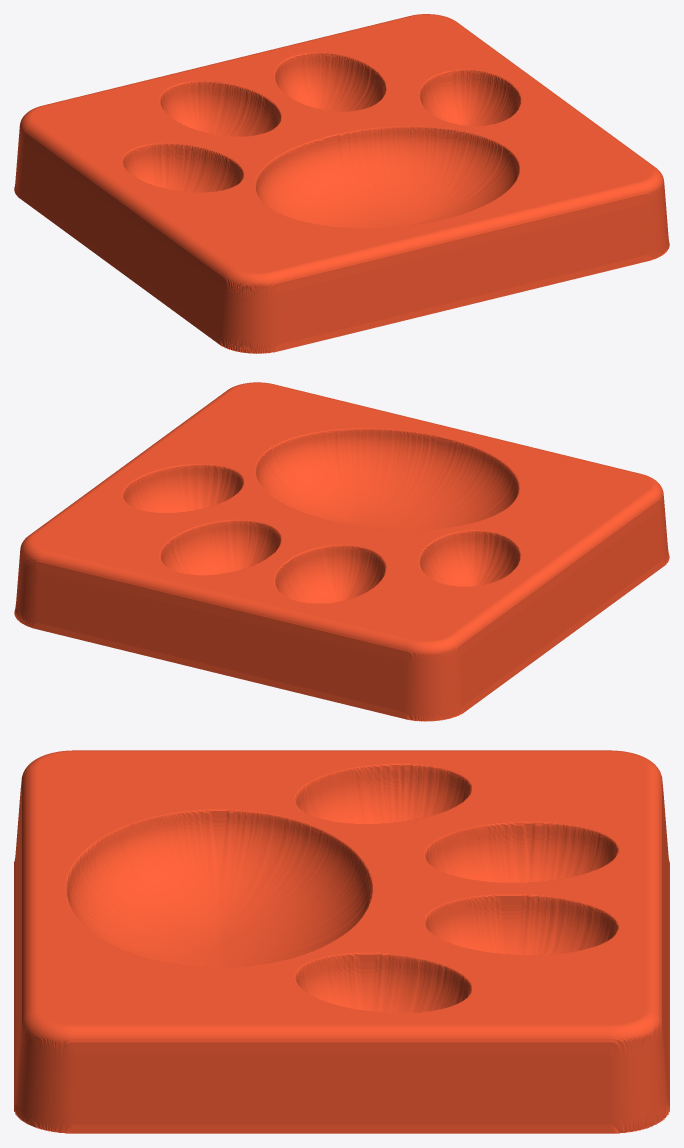
Rendered from mold.glb.
3 renders of one model, top to bottom at view 1: azimuth 30°, elevation 25°; view 2: azimuth 150°, elevation 25°; view 3: azimuth 270°, elevation 25°, orthographic. The views are drawn at different scales.
Parts seen in each view (by area): view 1: geometry_0; view 2: geometry_0; view 3: geometry_0.
Boxes of the visible parts, x1,y1,x2,y2 form: geometry_0: [14, 14, 669, 353]; geometry_0: [14, 382, 669, 721]; geometry_0: [14, 750, 669, 1133].
Bounding box in the file's own units: 0.105 × 0.0165 × 0.0994.
